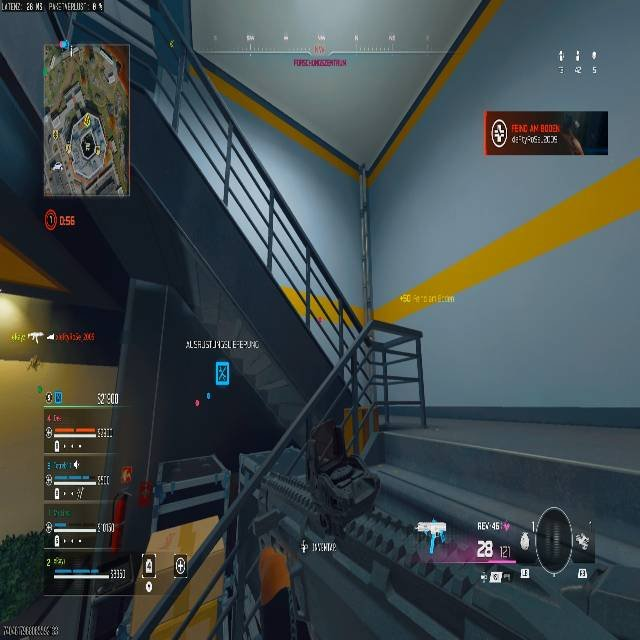head: (34, 0, 640, 509)
